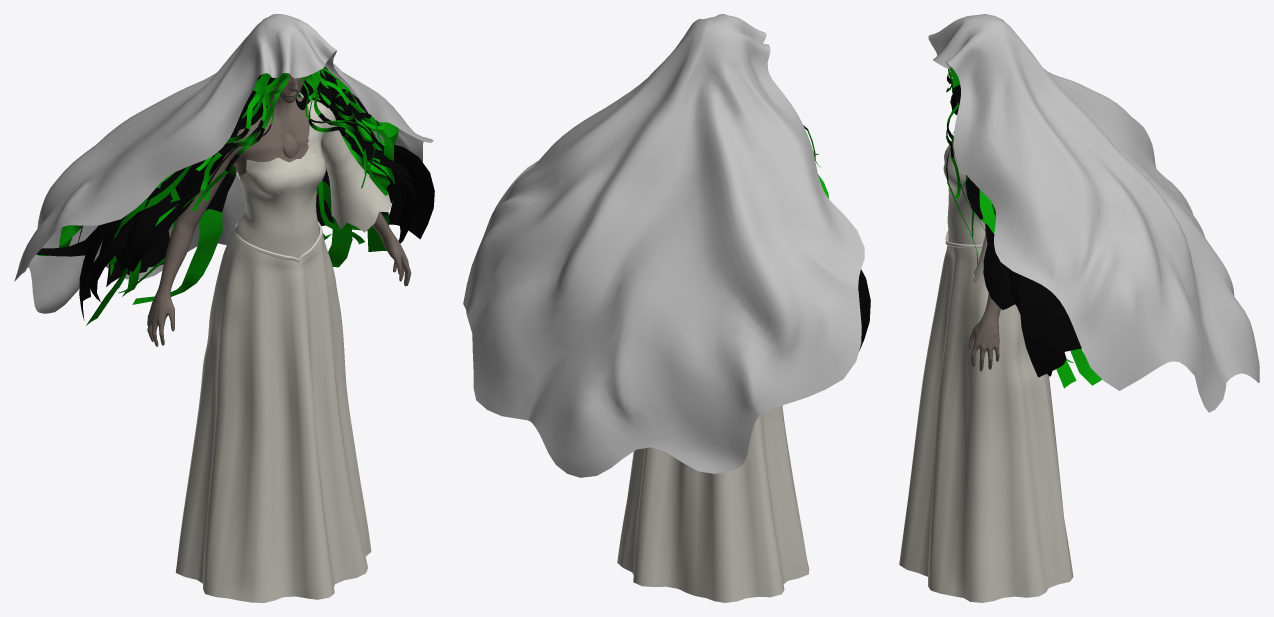
File: Elrey Chopped Off The Goddess Leg.fbx
3 views of the same model, side by side, from view 1: azimuth 30°, elevation 25°; view 2: azimuth 150°, elevation 25°; view 3: azimuth 270°, elevation 25° (orthographic).
Parts seen in each view (by area): view 1: Skirt_low, Veil_low, Hair_low, Top_low, Body_low; view 2: Veil_low, Skirt_low, Hair_low; view 3: Veil_low, Skirt_low, Hair_low, Top_low, Body_low.
Part boxes in pixels (x1=…): Skirt_low: x1=175, y1=232, x2=371, y2=602; Veil_low: x1=14, y1=14, x2=433, y2=313; Hair_low: x1=36, y1=66, x2=434, y2=325; Top_low: x1=234, y1=92, x2=391, y2=258; Body_low: x1=147, y1=95, x2=411, y2=346; Veil_low: x1=463, y1=14, x2=864, y2=477; Skirt_low: x1=617, y1=405, x2=809, y2=602; Hair_low: x1=803, y1=125, x2=870, y2=351; Veil_low: x1=928, y1=14, x2=1259, y2=412; Skirt_low: x1=899, y1=245, x2=1073, y2=602; Hair_low: x1=946, y1=68, x2=1101, y2=388; Top_low: x1=943, y1=141, x2=987, y2=285; Body_low: x1=968, y1=293, x2=1000, y2=371.
Size of the model in its own units: 101 by 135 by 80.36.
